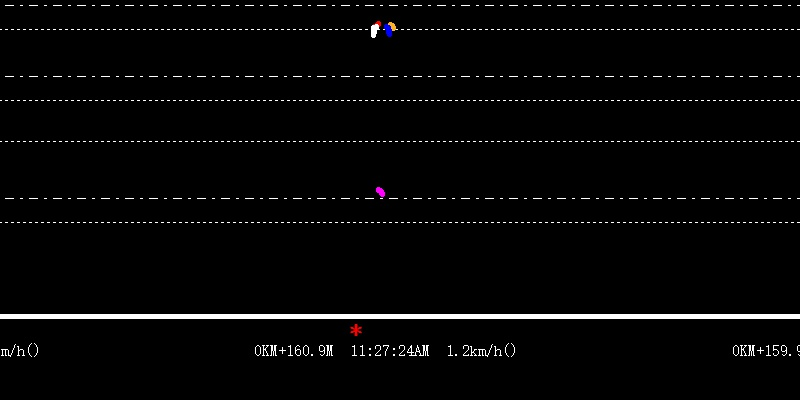face_s: (383, 19, 398, 38), (370, 19, 380, 41)
star: (347, 322, 365, 338)
